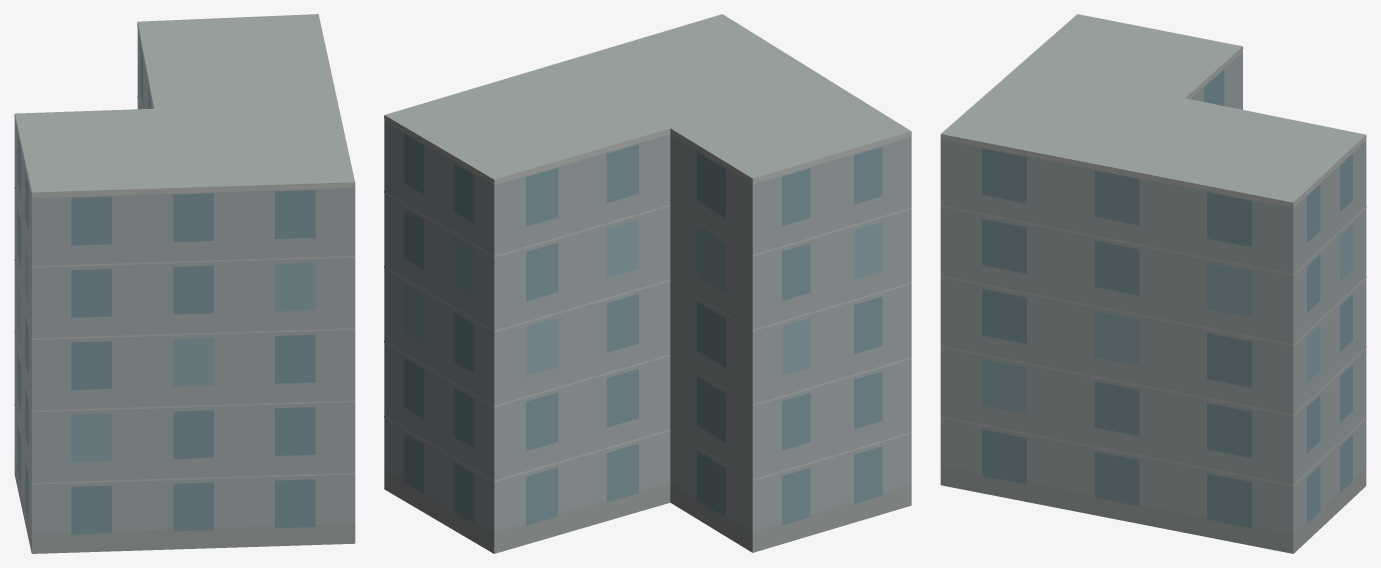
Rendered from survey-upis-32986947.glb.
3 renders of one model, left to right at view 1: azimuth 30°, elevation 25°; view 2: azimuth 150°, elevation 25°; view 3: azimuth 270°, elevation 25°, orthographic. The views are drawn at different scales.
Parts seen in each view (by area): view 1: survey-upis-32986947.tmp; view 2: survey-upis-32986947.tmp; view 3: survey-upis-32986947.tmp.
Boxes of the visible parts, bbox=[...] form: survey-upis-32986947.tmp: bbox=[14, 14, 355, 553]; survey-upis-32986947.tmp: bbox=[384, 14, 911, 553]; survey-upis-32986947.tmp: bbox=[940, 14, 1366, 553].
Bounding box in the file's own units: 18.17 × 15.75 × 17.32.
